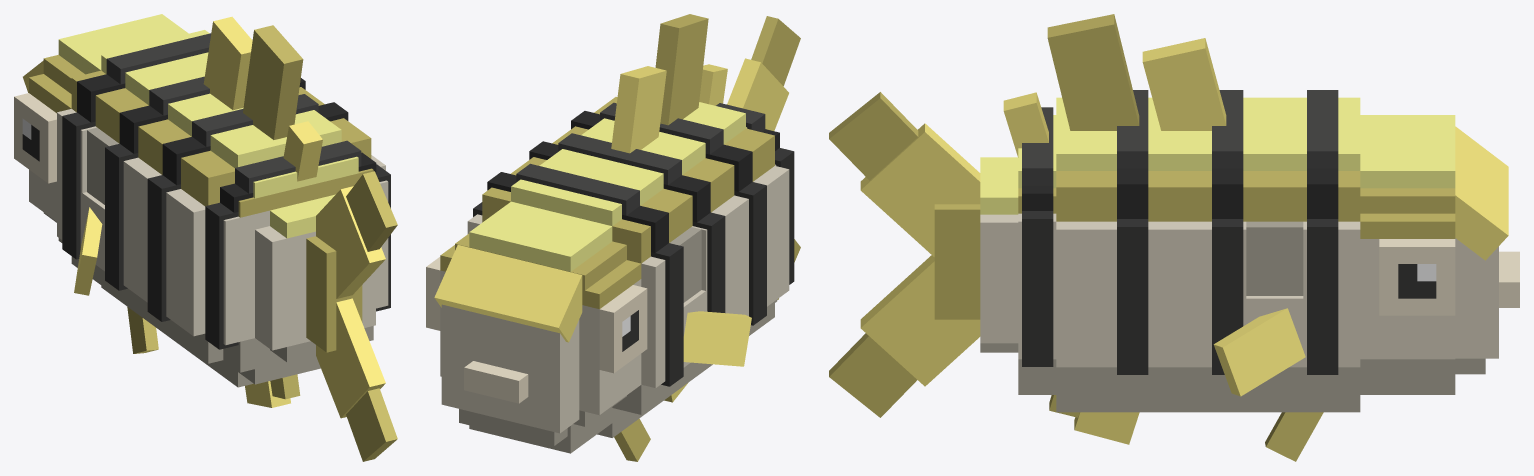
The model's file is SergeantMajor.obj.
3 renders of one model, left to right at view 1: azimuth 30°, elevation 25°; view 2: azimuth 150°, elevation 25°; view 3: azimuth 270°, elevation 25°, orthographic. The views are drawn at different scales.
Parts seen in each view (by area): view 1: S4, S3, S1, Tail, S2, Head; view 2: Head, S1, S3, S2, Tail, S4; view 3: S1, Head, S3, S2, Tail, S4.
Boxes of the visible parts, x1=… form: S4: x1=205, y1=121, x2=390, y2=384; S3: x1=147, y1=25, x2=385, y2=407; S1: x1=57, y1=30, x2=211, y2=353; Tail: x1=306, y1=171, x2=397, y2=461; S2: x1=105, y1=16, x2=324, y2=355; Head: x1=14, y1=14, x2=188, y2=242; Head: x1=426, y1=201, x2=647, y2=453; S1: x1=467, y1=150, x2=751, y2=461; S3: x1=571, y1=14, x2=789, y2=402; S2: x1=529, y1=66, x2=747, y2=400; Tail: x1=727, y1=16, x2=800, y2=299; S4: x1=699, y1=64, x2=794, y2=302; S1: x1=1213, y1=90, x2=1360, y2=461; Head: x1=1360, y1=115, x2=1519, y2=394; S3: x1=1047, y1=14, x2=1151, y2=444; S2: x1=1142, y1=38, x2=1246, y2=412; Tail: x1=829, y1=92, x2=980, y2=417; S4: x1=980, y1=92, x2=1056, y2=394.
Size of the model in its own units: 6.28 by 8.54 by 12.72.
Materials: 1 (1 with a texture image).
